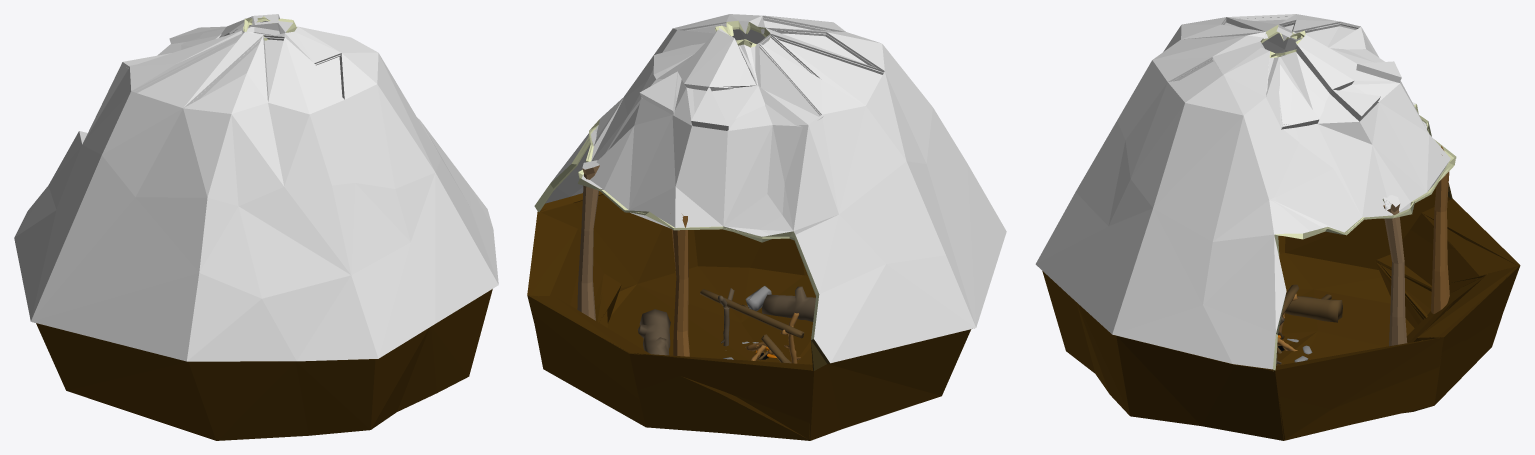
File: snow_people_house_05.fbx
3 renders of one model, left to right at view 1: azimuth 30°, elevation 25°; view 2: azimuth 150°, elevation 25°; view 3: azimuth 270°, elevation 25°, orthographic.
Visible parts, largest first — view 1: Sphere; view 2: Sphere; view 3: Sphere.
Boxes of the visible parts, x1,y1,x2,y2 form: Sphere: (14,14,498,440); Sphere: (527,14,1006,440); Sphere: (1035,14,1520,440).
Bounding box in the file's own units: 864 × 631 × 820.
